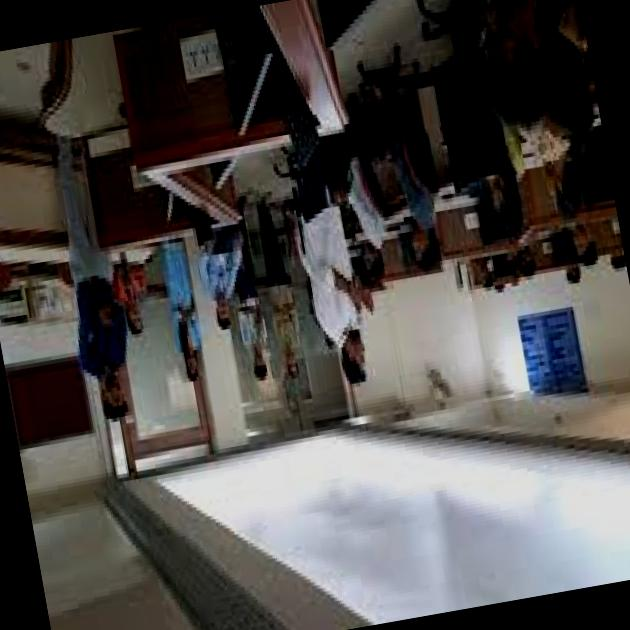there is a person: (257, 111, 388, 418), (30, 158, 160, 443), (141, 207, 288, 427)
